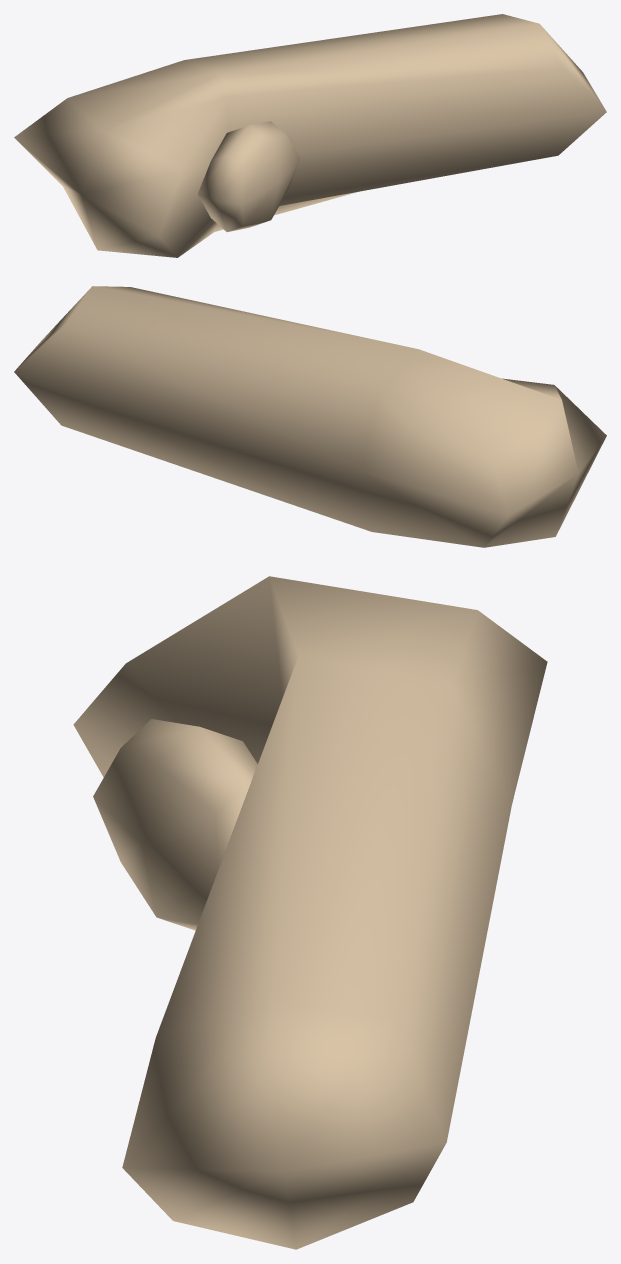
File: armright.fbx
3 renders of one model, top to bottom at view 1: azimuth 30°, elevation 25°; view 2: azimuth 150°, elevation 25°; view 3: azimuth 270°, elevation 25°, orthographic. The views are drawn at different scales.
Parts seen in each view (by area): view 1: polySurface3, polySurface1; view 2: polySurface3; view 3: polySurface3, polySurface1.
Part boxes in pixels (box(x1,y1,x2,y2)): polySurface3: box(14, 14, 606, 257); polySurface1: box(198, 121, 300, 231); polySurface3: box(14, 286, 606, 547); polySurface3: box(73, 576, 547, 1249); polySurface1: box(93, 719, 257, 930).
Bounding box in the file's own units: 1.51 × 0.4728 × 0.6169.
